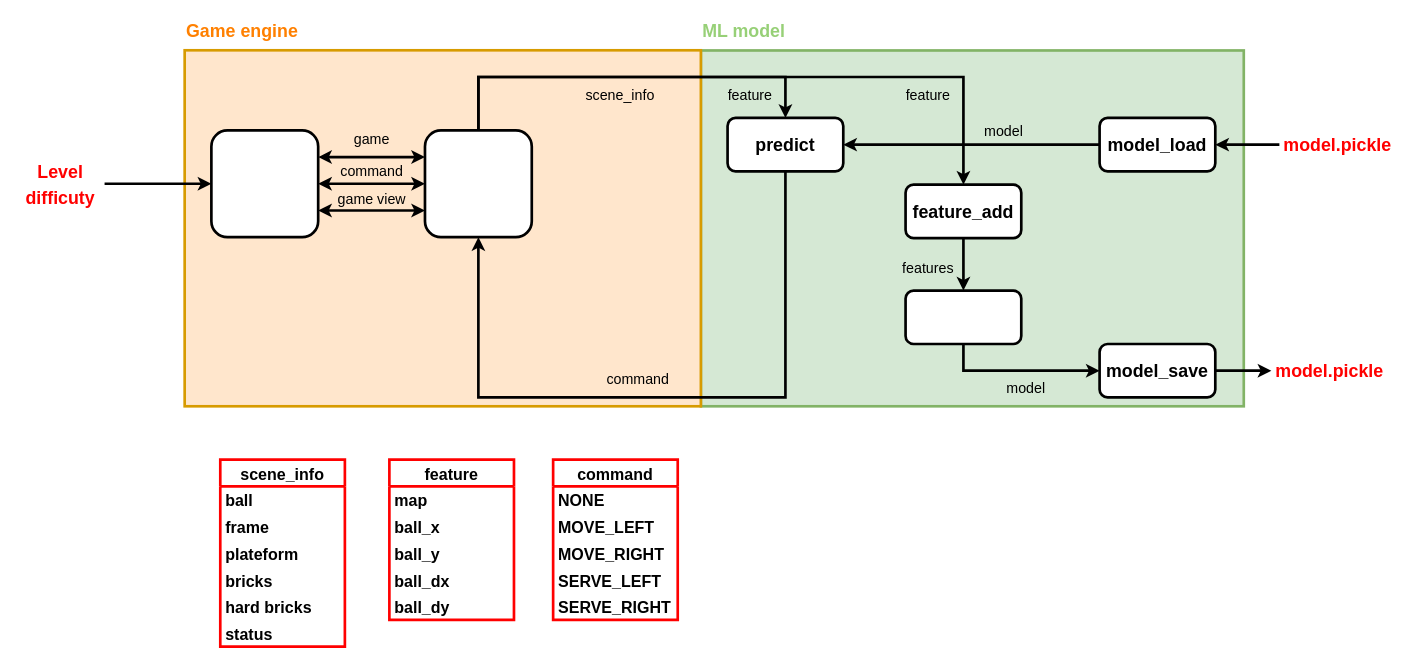
Image size: 1410x664. Some labels were removed from this diagram. Here are the shapes that lost their labels. From the top down, the centre of each, then its label:
At [264,183]: "ML Game".
At [478,183]: "arkanoid".
At [963,317]: "train".
